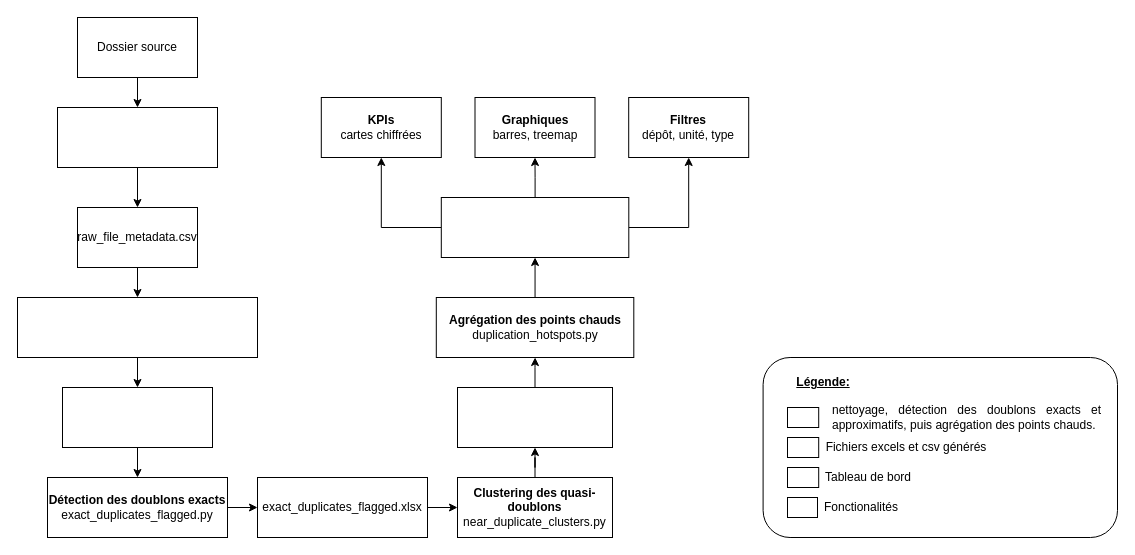
The diagram is 1135 pixels wide and 555 high, and some of its shapes have lost their labels. Here are the shapes that lost their labels. From the top down, the centre of each, then its label:
(x=137, y=137): Scan + hachage MD5 raw_file_metadata.py
(x=534, y=227): Application web Dash Chargement + cache des données
(x=137, y=327): Nettoyage + feature enginnering cleaned_file_metadata.py
(x=137, y=417): cleaned_file_metadata.xlsx
(x=534, y=417): near_duplicate_clusters.xlsx
